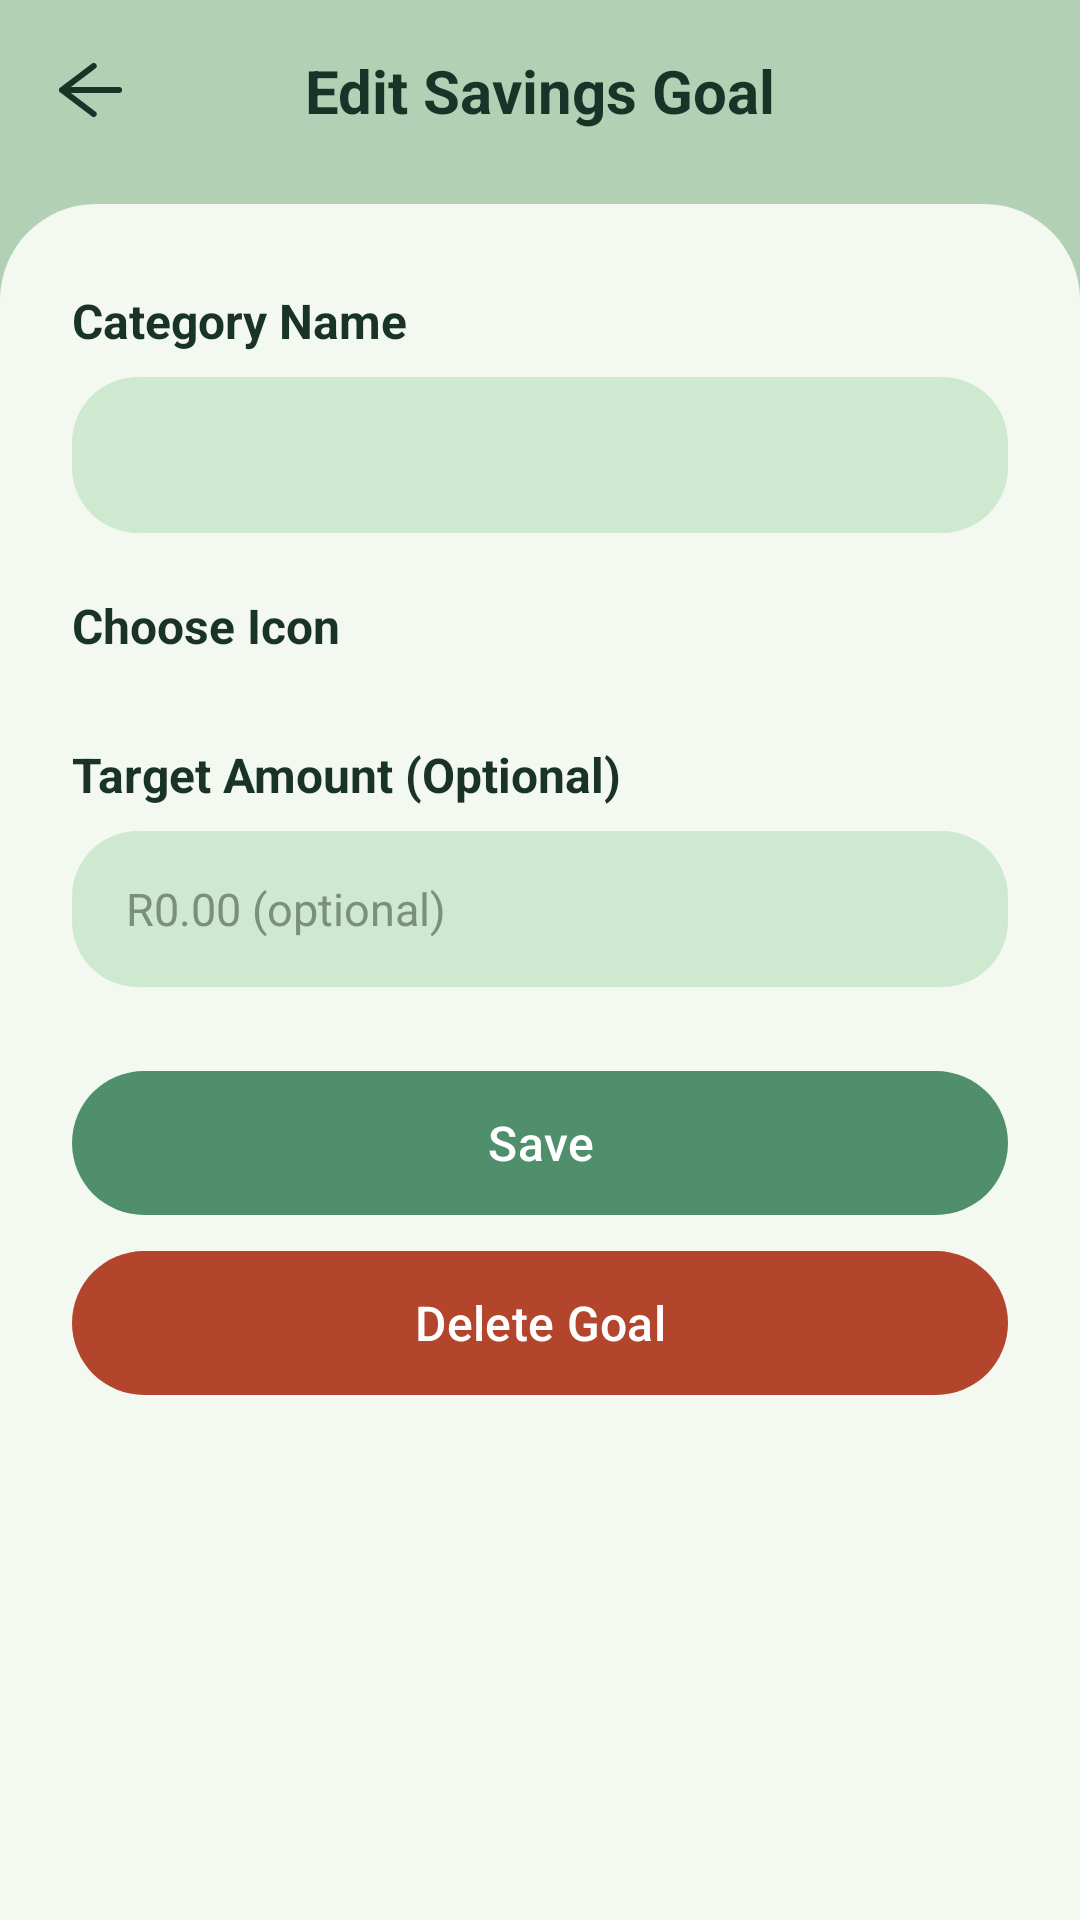

Point at icon controls on the screen. Image size 1080x1920, points as (x=x, y=y).
Back: (x=90, y=90)
